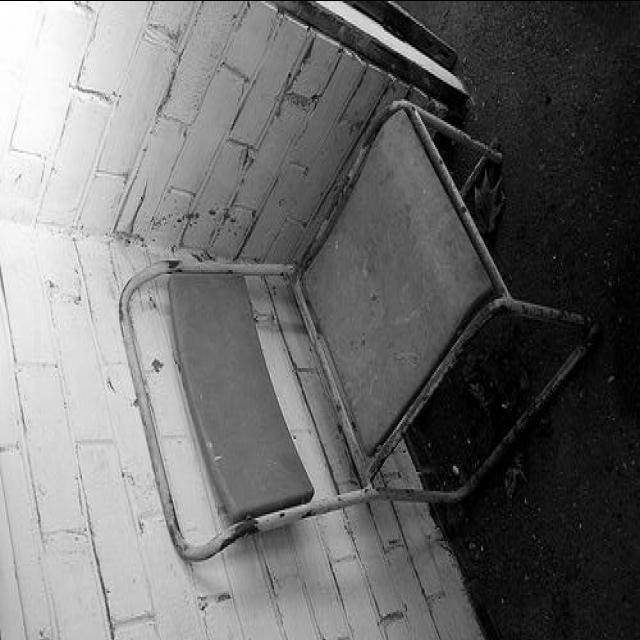chair: (115, 92, 596, 568)
